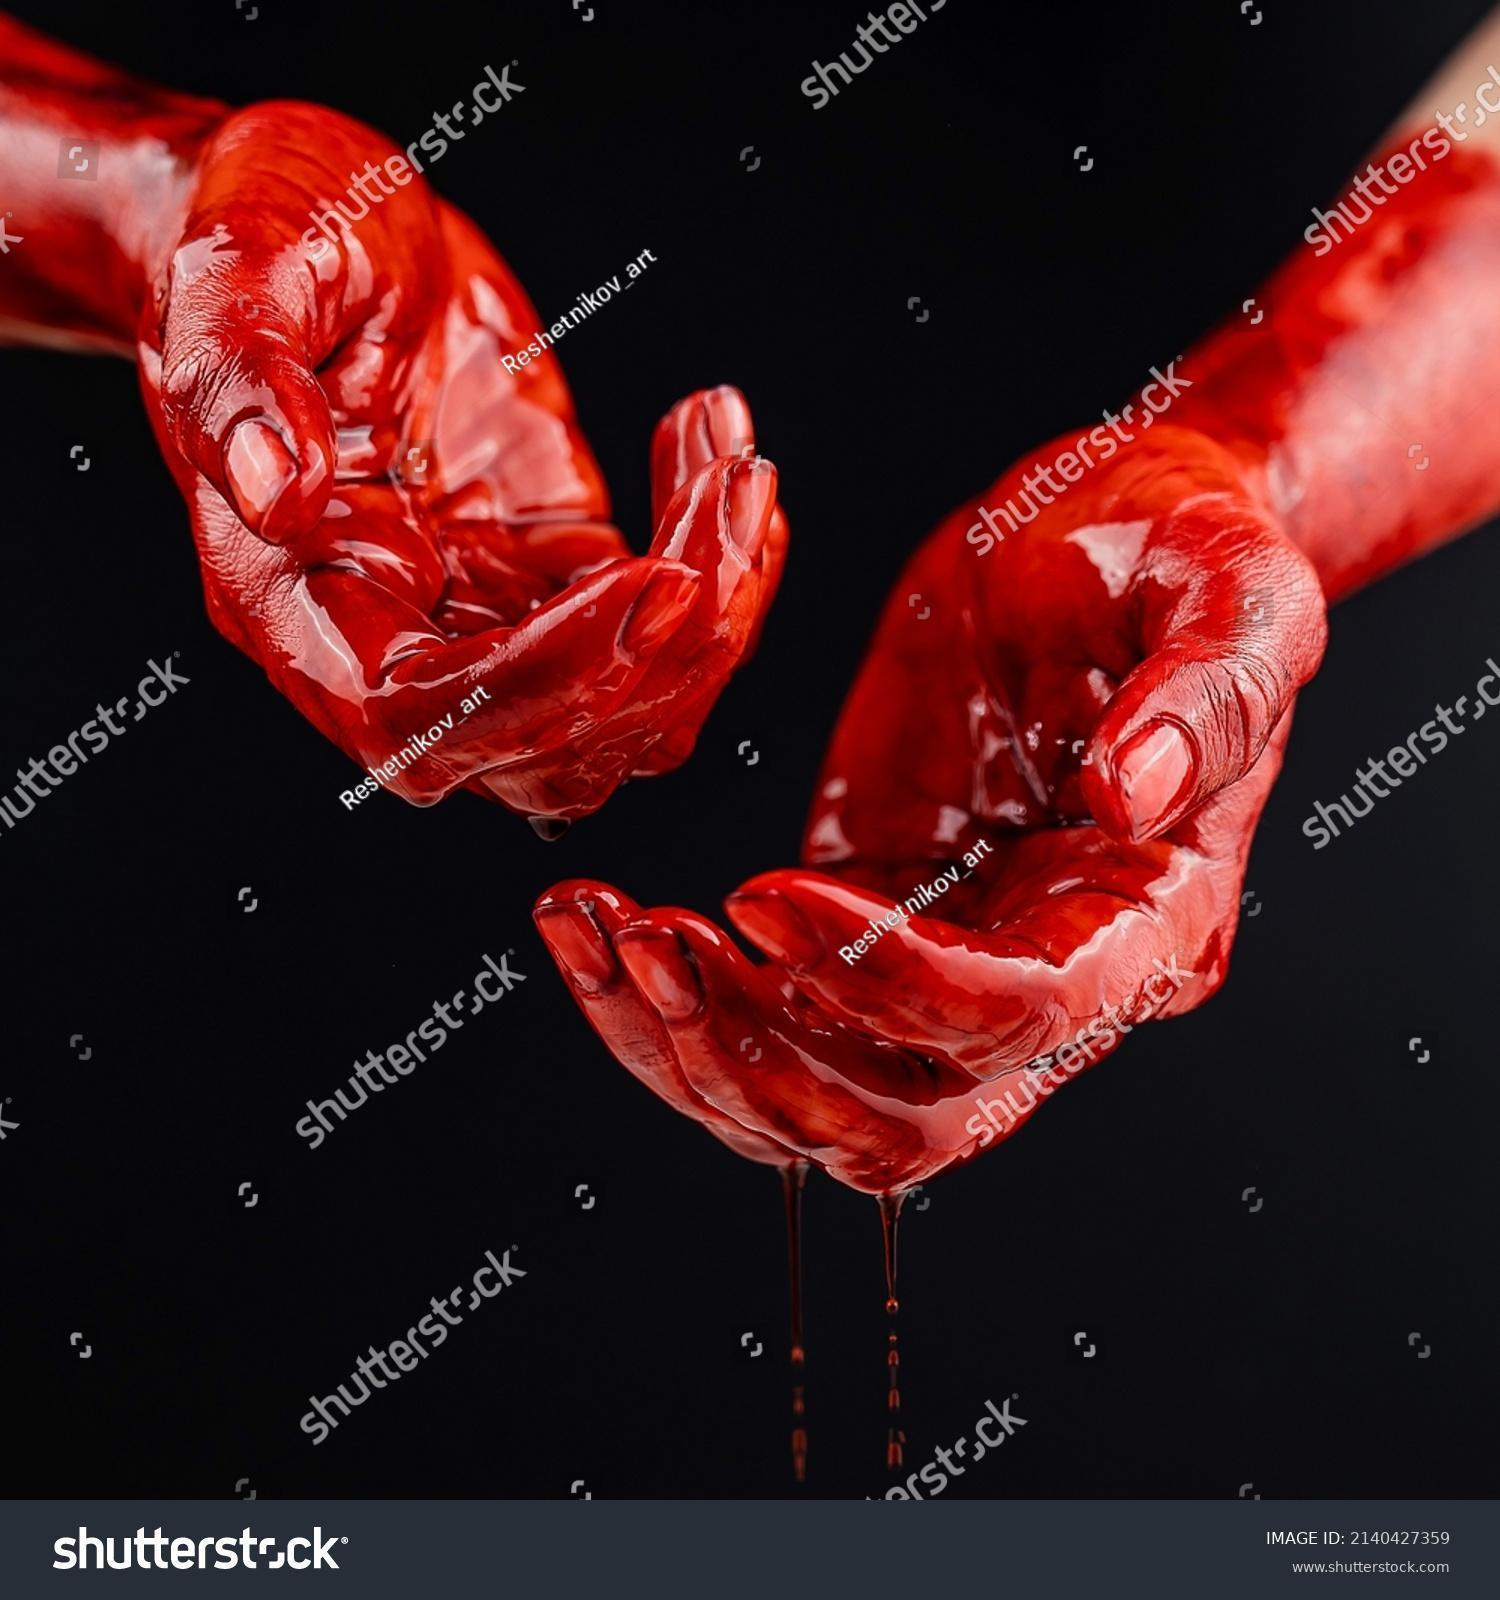Fire: (537, 124, 1499, 1210), (1, 18, 787, 827)
